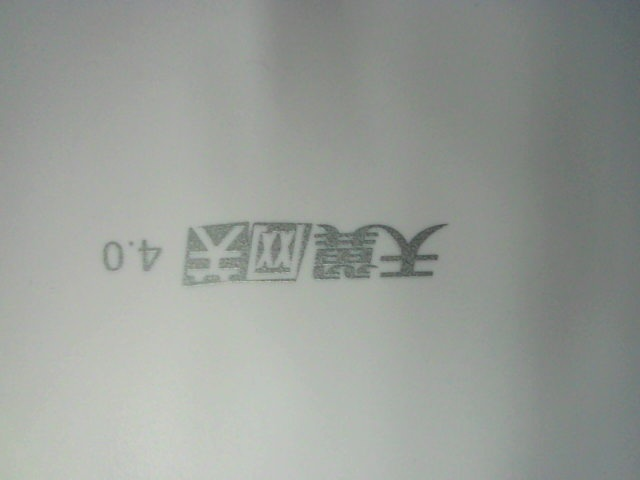BM_TianYiWangGuan: (102, 199, 453, 287)
